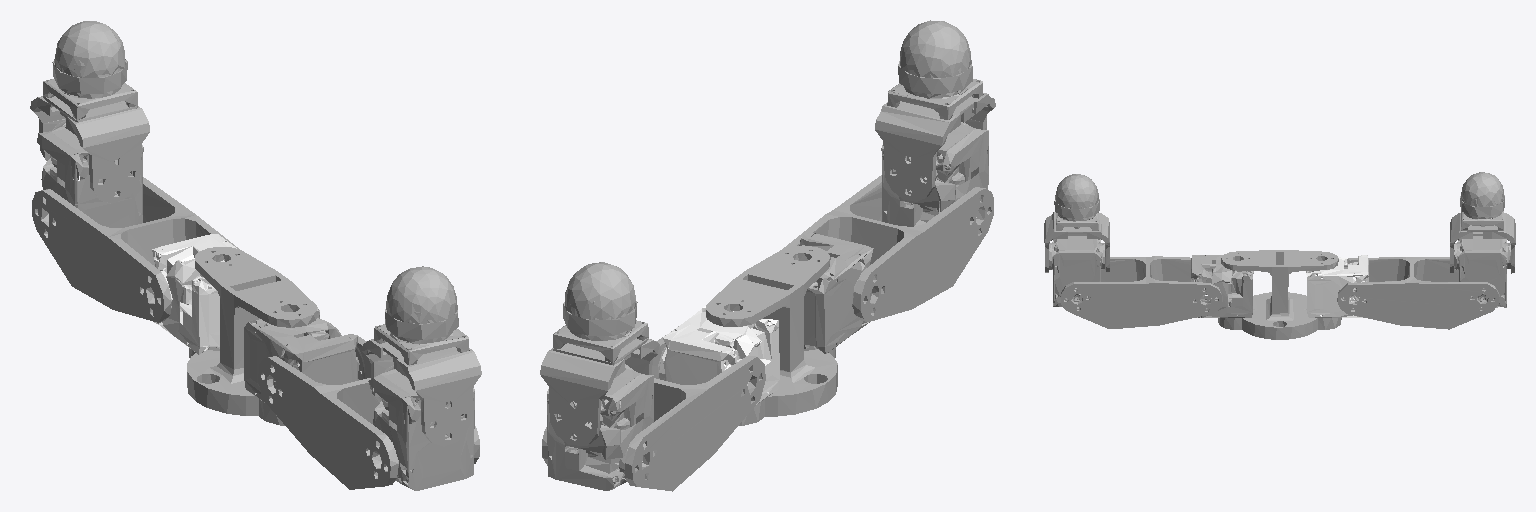
robot.urdf — urdf_gripper1:
<?xml version="1.0" encoding="utf-8"?>
<!-- This URDF was automatically created by SolidWorks to URDF Exporter! Originally created by [author] ([email redacted]) 
     Commit Version: 1.6.0-4-g7f85cfe  Build Version: 1.6.7995.38578
     For more information, please see http://wiki.ros.org/sw_urdf_exporter -->
<robot
  name="urdf_gripper1">
  <link
    name="Link_1">
    <inertial>
      <origin
        xyz="0 -6.93889390390723E-18 0.0150172297115083"
        rpy="0 0 0" />
      <mass
        value="0.0547007330603109" />
      <inertia
        ixx="3.82502607446515E-05"
        ixy="5.63004985316599E-13"
        ixz="1.38024178340574E-21"
        iyy="2.55682822465902E-05"
        iyz="-2.99181481392226E-21"
        izz="3.01786195512601E-05" />
    </inertial>
    <visual>
      <origin
        xyz="0 0 0"
        rpy="0 0 0" />
      <geometry>
        <mesh
          filename="package://urdf_gripper1/meshes/Link_1.stl" />
      </geometry>
      <material
        name="">
        <color
          rgba="0.752941176470588 0.752941176470588 0.752941176470588 1" />
      </material>
    </visual>
    <collision>
      <origin
        xyz="0 0 0"
        rpy="0 0 0" />
      <geometry>
        <mesh
          filename="package://urdf_gripper1/meshes/Link_1.stl" />
      </geometry>
    </collision>
  </link>
  <link
    name="Link_2">
    <inertial>
      <origin
        xyz="0.000133911513531482 0.0308660885322123 0.0108576264680072"
        rpy="0 0 0" />
      <mass value="0.098997" />
        <inertia ixx="0.0000276300" ixy="0.0000000418" ixz="0.0000005145" iyy="0.0000204300" iyz="-0.0000000421" izz="0.0000276300"/>
    </inertial>
    <visual>
      <origin
        xyz="0 0 0"
        rpy="0 0 0" />
      <geometry>
        <mesh
          filename="package://urdf_gripper1/meshes/Link_2.stl" />
      </geometry>
      <material
        name="">
        <color
          rgba="0.752941176470588 0.752941176470588 0.752941176470588 1" />
      </material>
    </visual>
    <collision>
      <origin
        xyz="0 0 0"
        rpy="0 0 0" />
      <geometry>
        <mesh
          filename="package://urdf_gripper1/meshes/Link_2.stl" />
      </geometry>
    </collision>
  </link>
  <joint
    name="Joint_1"
    type="continuous">
    <origin
      xyz="0 -0.031 0.029"
      rpy="0 0 0" />
    <limit effort="0.35" lower="-0.524" upper="0.524" velocity="6.283"/>
    <parent
      link="Link_1" />
    <child
      link="Link_2" />
    <axis
      xyz="0 0 1" />
  </joint>
  <link
    name="Link_3">
    <inertial>
      <origin
        xyz="-6.6959E-10 -0.047312 -0.003167"
        rpy="0 0 0" />
      <mass
        value="0.035188" />
      <inertia
        ixx="3.0041E-05"
        ixy="3.5933E-13"
        ixz="2.5652E-13"
        iyy="1.7697E-05"
        iyz="-2.3365E-07"
        izz="4.1102E-05" />
    </inertial>
    <visual>
      <origin
        xyz="0 0 0"
        rpy="0 0 0" />
      <geometry>
        <mesh
          filename="package://urdf_gripper1/meshes/Link_3.stl" />
      </geometry>
      <material
        name="">
        <color
          rgba="0.75294 0.75294 0.75294 1" />
      </material>
    </visual>
    <collision>
      <origin
        xyz="0 0 0"
        rpy="0 0 0" />
      <geometry>
        <mesh
          filename="package://urdf_gripper1/meshes/Link_3.stl" />
      </geometry>
    </collision>
  </link>
  <joint
    name="Joint_2"
    type="continuous">
    <origin
      xyz="0 -0.024 0"
      rpy="0 0 0" />
    <limit effort="0.35" lower="-1.57" upper="0.0" velocity="6.283"/>
    <parent
      link="Link_2" />
    <child
      link="Link_3" />
    <axis
      xyz="1 0 0" />
  </joint>
  <link
    name="Link_4">
    <inertial>
      <origin
        xyz="0.00013391 0.15039 0.010104"
        rpy="0 0 0" />
      <mass value="0.098997" />
        <inertia ixx="0.0000276300" ixy="0.0000000418" ixz="0.0000005145" iyy="0.0000204300" iyz="-0.0000000421" izz="0.0000276300"/>
    </inertial>
    <visual>
      <origin
        xyz="0 0 0"
        rpy="0 0 0" />
      <geometry>
        <mesh
          filename="package://urdf_gripper1/meshes/Link_4.stl" />
      </geometry>
      <material
        name="">
        <color
          rgba="0.75294 0.75294 0.75294 1" />
      </material>
    </visual>
    <collision>
      <origin
        xyz="0 0 0"
        rpy="0 0 0" />
      <geometry>
        <mesh
          filename="package://urdf_gripper1/meshes/Link_4.stl" />
      </geometry>
    </collision>
  </link>
  <joint
    name="Joint_3"
    type="continuous">
    <origin
      xyz="0 -0.095522 0.000754"
      rpy="0 0 0" />
    <limit effort="0.35" lower="0.6" upper="2.2" velocity="6.283"/>
    <parent
      link="Link_3" />
    <child
      link="Link_4" />
    <axis
      xyz="1 0 0" />
  </joint>
  <link
    name="Grip_1">
    <inertial>
      <origin
        xyz="-1.87532538448026E-05 -1.46755248142255E-05 0.0353004822904477"
        rpy="0 0 0" />
      <mass
        value="0.0344208838298377" />
      <inertia
        ixx="7.7154399626129E-06"
        ixy="2.6075628479324E-10"
        ixz="1.58733850084192E-09"
        iyy="4.43641994241611E-06"
        iyz="1.64596780856448E-10"
        izz="7.87085677073128E-06" />
    </inertial>
    <visual>
      <origin
        xyz="0 0 0"
        rpy="0 0 0" />
      <geometry>
        <mesh
          filename="package://urdf_gripper1/meshes/Grip_1.stl" />
      </geometry>
      <material
        name="">
        <color
          rgba="0.752941176470588 0.752941176470588 0.752941176470588 1" />
      </material>
    </visual>
    <collision>
      <origin
        xyz="0 0 0"
        rpy="0 0 0" />
      <geometry>
        <mesh
          filename="package://urdf_gripper1/meshes/Grip_1.stl" />
      </geometry>
    </collision>
  </link>
  <joint
    name="Joint_4"
    type="continuous">
    <origin
      xyz="0 0 0.024"
      rpy="0 0 0" />
    <limit effort="0.35" lower="-1.22" upper="1.22" velocity="6.283"/>
    <parent
      link="Link_4" />
    <child
      link="Grip_1" />
    <axis
      xyz="0 1 0" />
  </joint>
  <link
    name="Link_5">
    <inertial>
      <origin
        xyz="0 0 0"
        rpy="0 0 0" />
      <mass value="0.098997" />
        <inertia ixx="0.0000276300" ixy="0.0000000418" ixz="0.0000005145" iyy="0.0000204300" iyz="-0.0000000421" izz="0.0000276300"/>
    </inertial>
    <visual>
      <origin
        xyz="0 0 0"
        rpy="0 0 0" />
      <geometry>
        <mesh
          filename="package://urdf_gripper1/meshes/Link_5.stl" />
      </geometry>
      <material
        name="">
        <color
          rgba="1 1 1 1" />
      </material>
    </visual>
    <collision>
      <origin
        xyz="0 0 0"
        rpy="0 0 0" />
      <geometry>
        <mesh
          filename="package://urdf_gripper1/meshes/Link_5.stl" />
      </geometry>
    </collision>
  </link>
  <joint
    name="Joint_5"
    type="continuous">
    <origin
      xyz="0 0.031 0.029"
      rpy="0 0 0" />
    <limit effort="0.35" lower="-0.524" upper="0.524" velocity="6.283"/>
    <parent
      link="Link_1" />
    <child
      link="Link_5" />
    <axis
      xyz="0 0 1" />
  </joint>
  <link
    name="Link_6">
    <inertial>
      <origin
        xyz="6.69590480284477E-10 0.047312259543009 -0.00316696601621572"
        rpy="0 0 0" />
      <mass
        value="0.0351877222430874" />
      <inertia
        ixx="3.00405223867073E-05"
        ixy="3.59327904026506E-13"
        ixz="-2.56522219181268E-13"
        iyy="1.76968982571648E-05"
        iyz="2.33648286999841E-07"
        izz="4.11020098914542E-05" />
    </inertial>
    <visual>
      <origin
        xyz="0 0 0"
        rpy="0 0 0" />
      <geometry>
        <mesh
          filename="package://urdf_gripper1/meshes/Link_6.stl" />
      </geometry>
      <material
        name="">
        <color
          rgba="0.752941176470588 0.752941176470588 0.752941176470588 1" />
      </material>
    </visual>
    <collision>
      <origin
        xyz="0 0 0"
        rpy="0 0 0" />
      <geometry>
        <mesh
          filename="package://urdf_gripper1/meshes/Link_6.stl" />
      </geometry>
    </collision>
  </link>
  <joint
    name="Joint_6"
    type="continuous">
    <origin
      xyz="0 0.024 0"
      rpy="0 0 0" />
    <limit effort="0.35" lower="0.0" upper="1.57" velocity="6.283"/>
    <parent
      link="Link_5" />
    <child
      link="Link_6" />
    <axis
      xyz="1 0 0" />
  </joint>
  <link
    name="Link_7">
    <inertial>
      <origin
        xyz="0.000133910925717962 -0.150655801871864 0.0101036224635462"
        rpy="0 0 0" />
      <mass value="0.098997" />
        <inertia ixx="0.0000276300" ixy="0.0000000418" ixz="0.0000005145" iyy="0.0000204300" iyz="-0.0000000421" izz="0.0000276300"/>
    </inertial>
    <visual>
      <origin
        xyz="0 0 0"
        rpy="0 0 0" />
      <geometry>
        <mesh
          filename="package://urdf_gripper1/meshes/Link_7.stl" />
      </geometry>
      <material
        name="">
        <color
          rgba="0.752941176470588 0.752941176470588 0.752941176470588 1" />
      </material>
    </visual>
    <collision>
      <origin
        xyz="0 0 0"
        rpy="0 0 0" />
      <geometry>
        <mesh
          filename="package://urdf_gripper1/meshes/Link_7.stl" />
      </geometry>
    </collision>
  </link>
  <joint
    name="Joint_7"
    type="continuous">
    <origin
      xyz="0 0.095522 0.000754"
      rpy="0 0 0" />
    <limit effort="0.35" lower="-2.2" upper="-0.6" velocity="6.283"/>
    <parent
      link="Link_6" />
    <child
      link="Link_7" />
    <axis
      xyz="1 0 0" />
  </joint>
  <link
    name="Grip_2">
    <inertial>
      <origin
        xyz="1.87532538436924E-05 1.46755248140451E-05 0.0363332648225437"
        rpy="0 0 0" />
      <mass
        value="0.0344208838298375" />
      <inertia
        ixx="7.71543996261288E-06"
        ixy="2.60756284790869E-10"
        ixz="-1.58733850085364E-09"
        iyy="4.43641994241609E-06"
        iyz="-1.64596780858671E-10"
        izz="7.87085677073125E-06" />
    </inertial>
    <visual>
      <origin
        xyz="0 0 0"
        rpy="0 0 0" />
      <geometry>
        <mesh
          filename="package://urdf_gripper1/meshes/Grip_2.stl" />
      </geometry>
      <material
        name="">
        <color
          rgba="0.752941176470588 0.752941176470588 0.752941176470588 1" />
      </material>
    </visual>
    <collision>
      <origin
        xyz="0 0 0"
        rpy="0 0 0" />
      <geometry>
        <mesh
          filename="package://urdf_gripper1/meshes/Grip_2.stl" />
      </geometry>
    </collision>
  </link>
  <joint
    name="Joint_8"
    type="continuous">
    <origin
      xyz="0 0 0.024"
      rpy="0 0 0" />
    <limit effort="0.35" lower="-1.22" upper="1.22" velocity="6.283"/>
    <parent
      link="Link_7" />
    <child
      link="Grip_2" />
    <axis
      xyz="0 1 0" />
  </joint>
</robot>

--- Facts derived from the render (not from the file) ---
Views: 3 orthographic renders of the robot side by side, from view 1: azimuth 30°, elevation 25°; view 2: azimuth 150°, elevation 25°; view 3: azimuth 270°, elevation 25°.
Model urdf_gripper1 with 9 links and 8 joints (8 continuous), rooted at Link_1, posed every joint at zero.
Visible links, largest first — view 1: Link_6, Grip_2, Grip_1, Link_3, Link_1, Link_4, Link_2, Link_5, Link_7; view 2: Link_3, Grip_2, Grip_1, Link_1, Link_6, Link_7, Link_5, Link_2, Link_4; view 3: Link_6, Link_3, Link_1, Grip_2, Grip_1, Link_2, Link_4, Link_7, Link_5.
Boxes of the visible links, x1,y1,x2,y2 form: Link_6: (32,177,238,322); Grip_2: (30,21,149,203); Grip_1: (362,266,481,446); Link_3: (258,336,479,489); Link_1: (187,247,316,425); Link_4: (368,369,474,490); Link_2: (244,307,359,402); Link_5: (152,234,236,354); Link_7: (37,125,143,227); Link_3: (783,175,993,321); Grip_2: (540,262,660,445); Grip_1: (875,20,995,201); Link_1: (706,245,837,425); Link_6: (542,335,765,491); Link_7: (547,368,653,490); Link_5: (659,306,779,404); Link_2: (799,233,873,353); Link_4: (881,123,988,226); Link_6: (1337,257,1499,329); Link_3: (1060,256,1222,328); Link_1: (1218,250,1341,339); Grip_2: (1450,172,1515,273); Grip_1: (1044,174,1109,272); Link_2: (1191,255,1253,317); Link_4: (1052,236,1102,307); Link_7: (1457,236,1507,307); Link_5: (1306,255,1368,317).
Size in the robot's own frame: 0.0631 by 0.3496 by 0.1236 metres.
9 mesh visuals loaded from 9 distinct referenced files (9 binary STL).